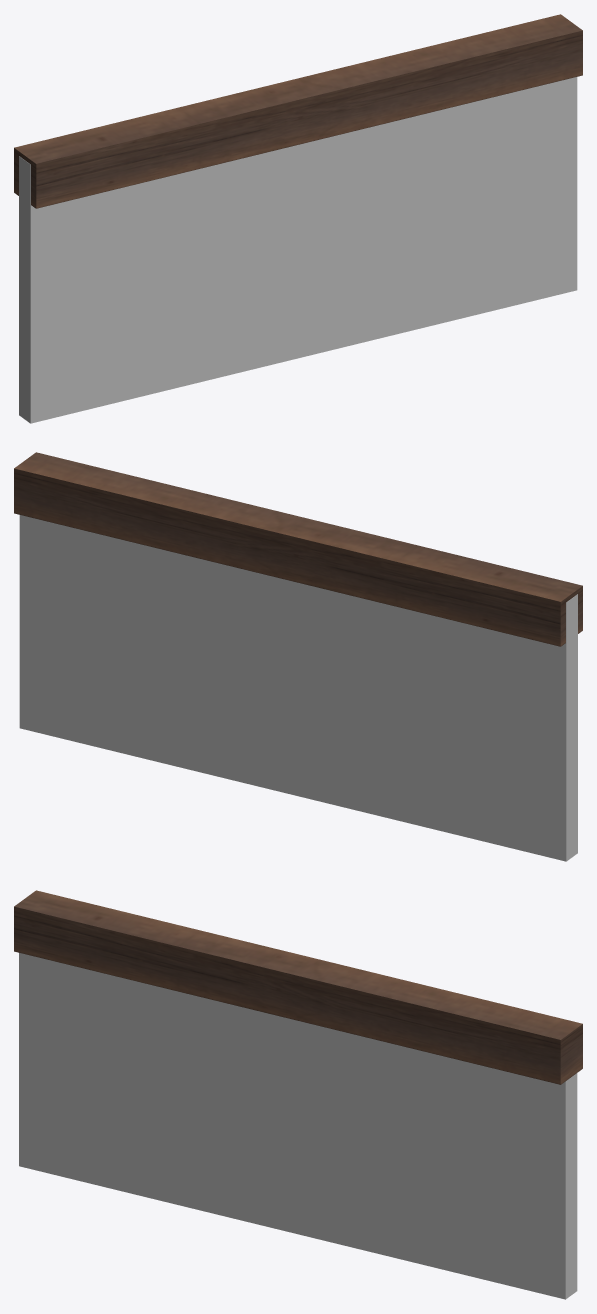
The model's file is jov_lowwall_1t01.fbx.
3 views of the same model, one above another, from view 1: azimuth 30°, elevation 25°; view 2: azimuth 150°, elevation 25°; view 3: azimuth 330°, elevation 25° (orthographic).
Visible parts, largest first — view 1: jov_lowwall_1t01; view 2: jov_lowwall_1t01; view 3: jov_lowwall_1t01.
Part boxes in pixels (<box>): jov_lowwall_1t01: <box>14,14,582,423</box>; jov_lowwall_1t01: <box>14,452,582,861</box>; jov_lowwall_1t01: <box>14,890,582,1299</box>.
Bounding box in the file's own units: 217 × 100 × 15.26.
